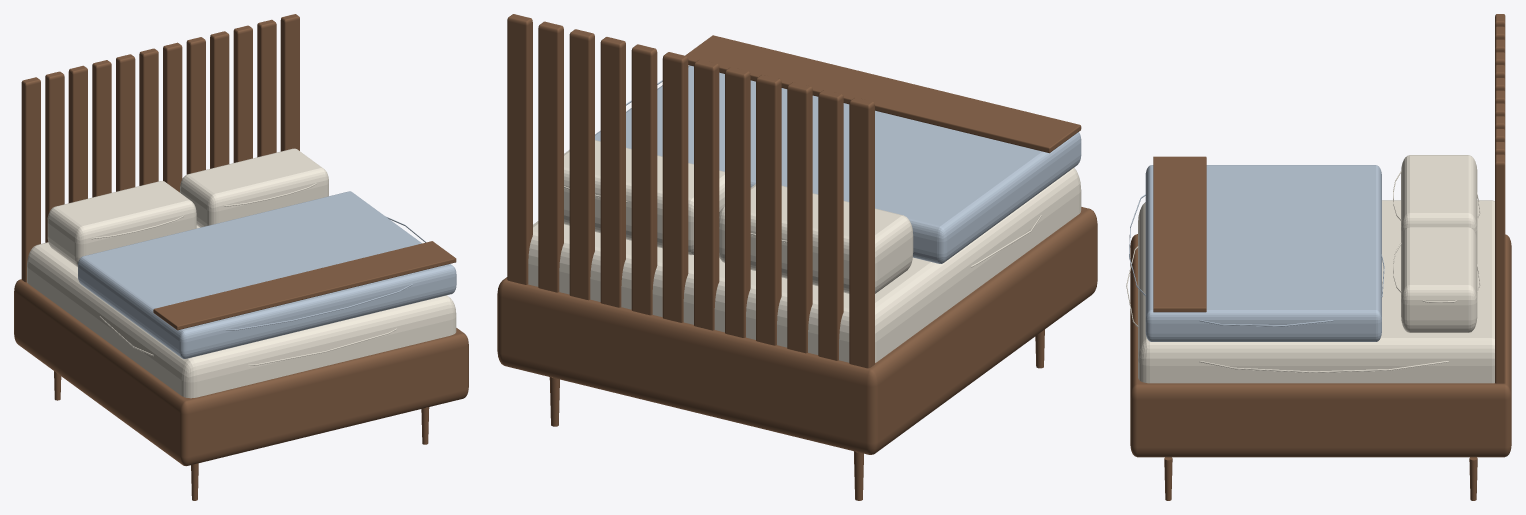
The model's file is bed-2-1.glb.
The picture shows the model from 3 angles, left to right: view 1: azimuth 30°, elevation 25°; view 2: azimuth 150°, elevation 25°; view 3: azimuth 270°, elevation 25°; orthographic projection. The views are drawn at different scales.
Visible parts, largest first — view 1: part, tailored-cushion (×2); view 2: part, tailored-cushion (×2); view 3: tailored-cushion (×2), part.
Part boxes in pixels (box(x1,y1,x2,y2)): part: box(14, 14, 468, 500); tailored-cushion (×2): box(27, 148, 456, 398); part: box(497, 14, 1097, 500); tailored-cushion (×2): box(528, 65, 1081, 362); tailored-cushion (×2): box(1126, 155, 1494, 383); part: box(1130, 14, 1511, 500).
Size of the model in its own units: 1 by 1 by 1.
